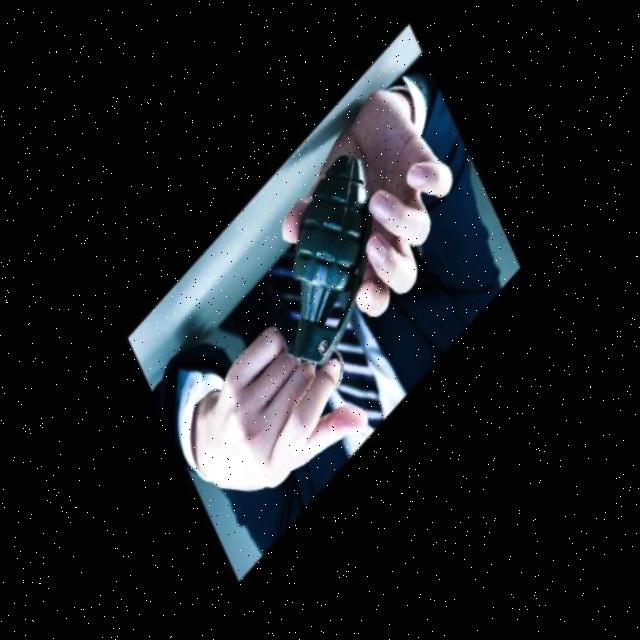grenade: (269, 145, 384, 382)
